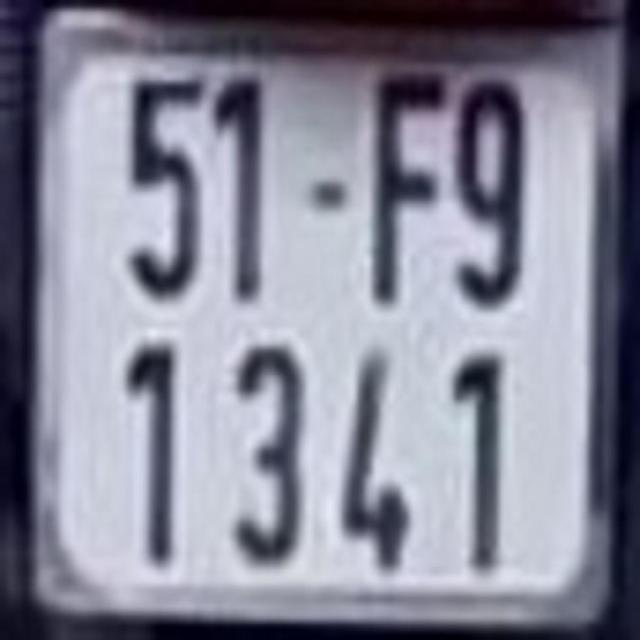1: (123, 339, 180, 567), (451, 337, 506, 570), (213, 74, 268, 301)
3: (235, 340, 301, 566)
4: (343, 344, 414, 568)
5: (132, 78, 206, 304)
9: (456, 80, 532, 320)
F: (366, 73, 448, 313)
